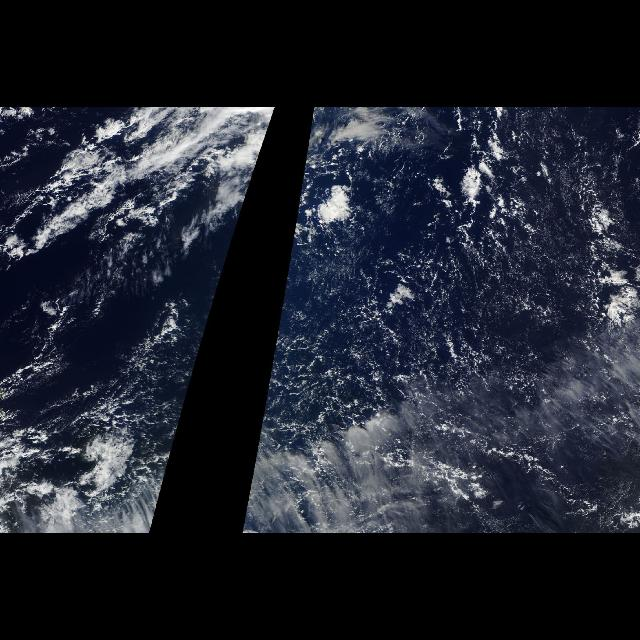Gravel: (256, 109, 638, 453), (122, 320, 196, 466)
Sugar: (468, 128, 616, 378)
